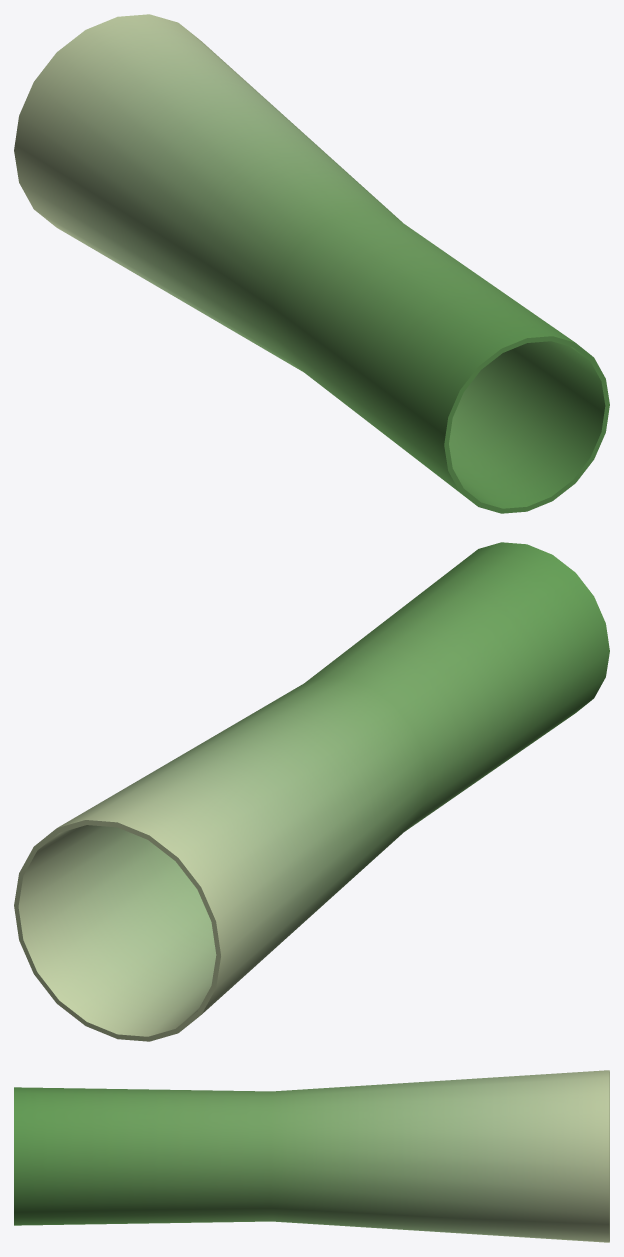
The model's file is chives1_sliced_5.fbx.
The picture shows the model from 3 angles, top to bottom: view 1: azimuth 30°, elevation 25°; view 2: azimuth 150°, elevation 25°; view 3: azimuth 270°, elevation 25°; orthographic projection. The views are drawn at different scales.
Visible parts, largest first — view 1: Chives_1_sliced.005; view 2: Chives_1_sliced.005; view 3: Chives_1_sliced.005.
Boxes of the visible parts, left/top/right/bottom form: Chives_1_sliced.005: left=14, top=14, right=609, bottom=513; Chives_1_sliced.005: left=14, top=542, right=609, bottom=1041; Chives_1_sliced.005: left=14, top=1070, right=609, bottom=1242.
Bounding box in the file's own units: 44.11 × 44.11 × 151.
